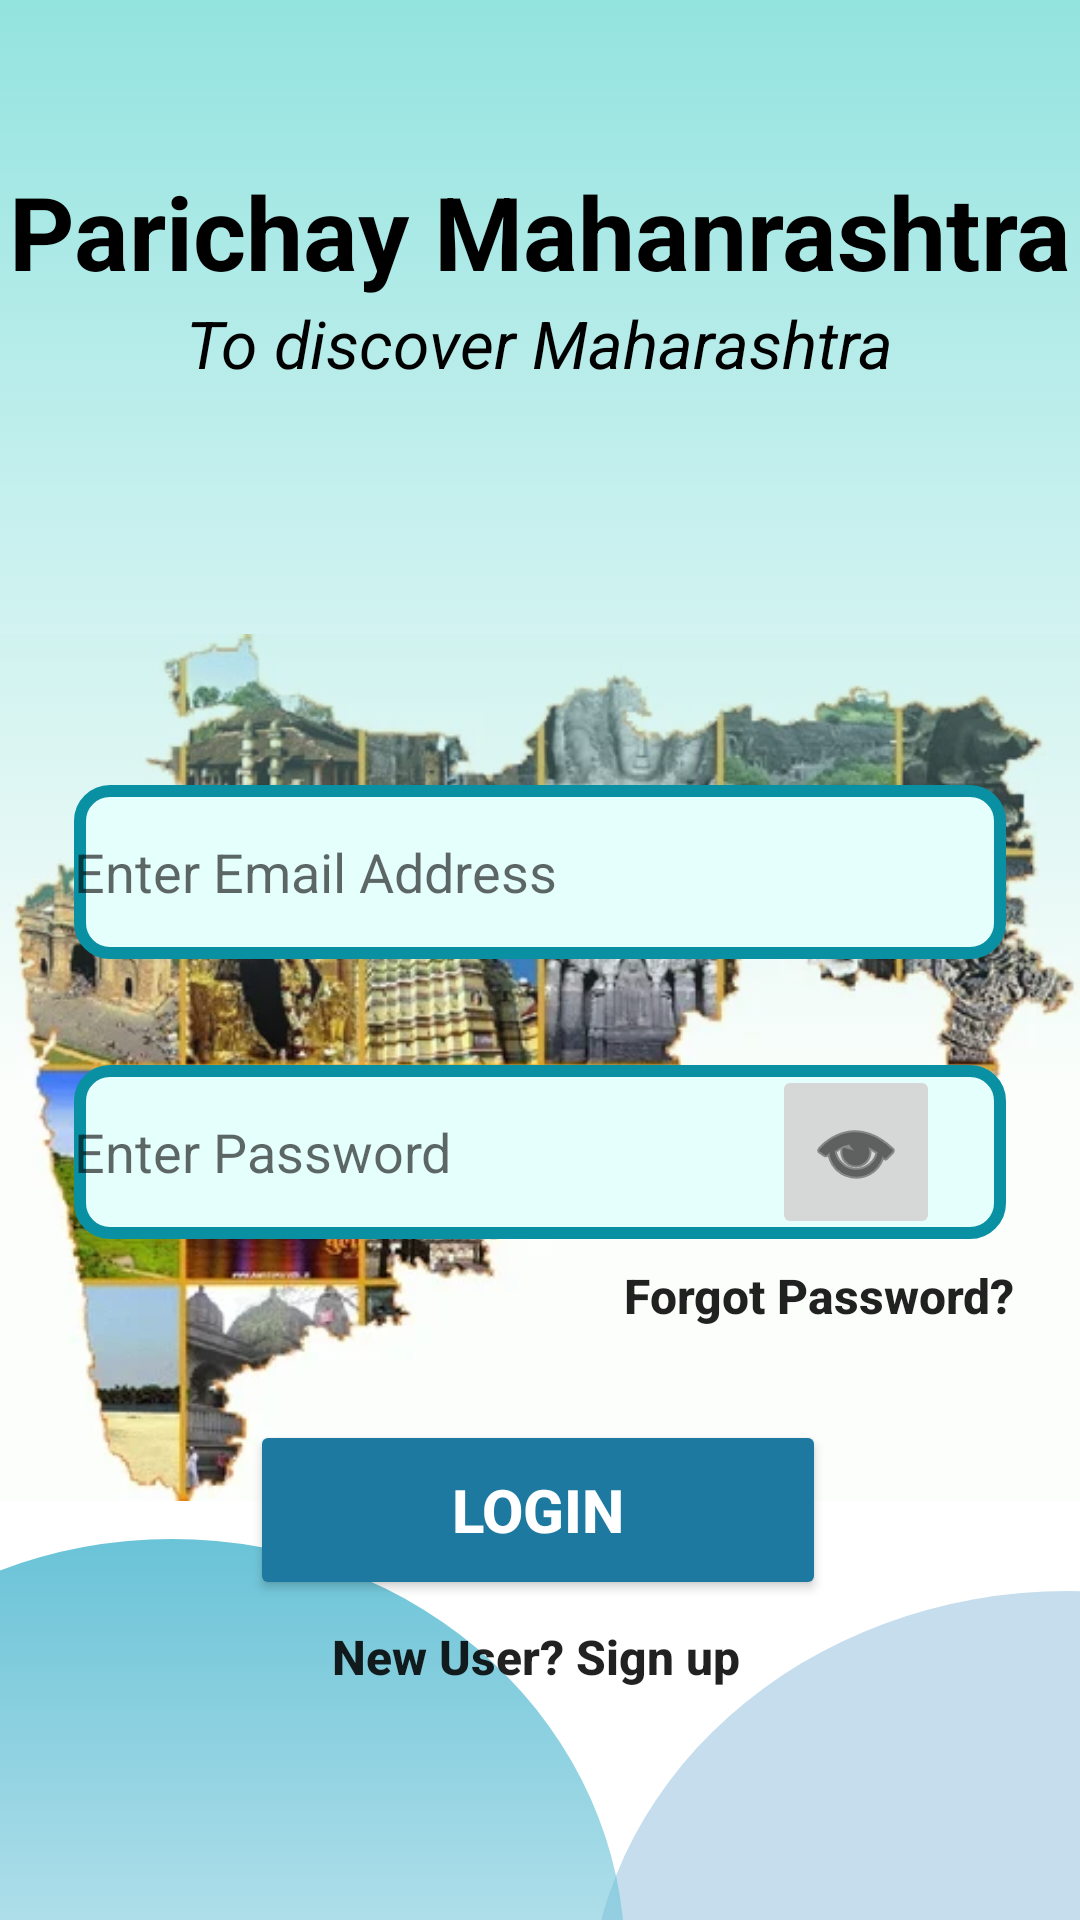

Where icons sit on this 1080 × 1920 app screen, as [x1,y1,x2,y2]:
view: [784,1083,928,1221]
